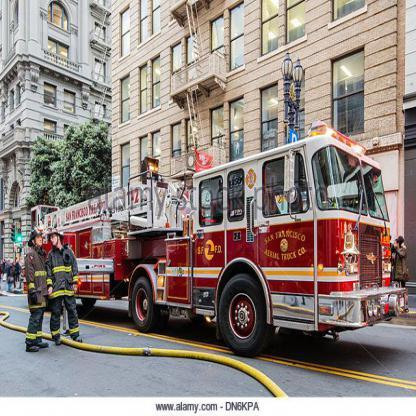fire-truck: (16, 113, 396, 385)
